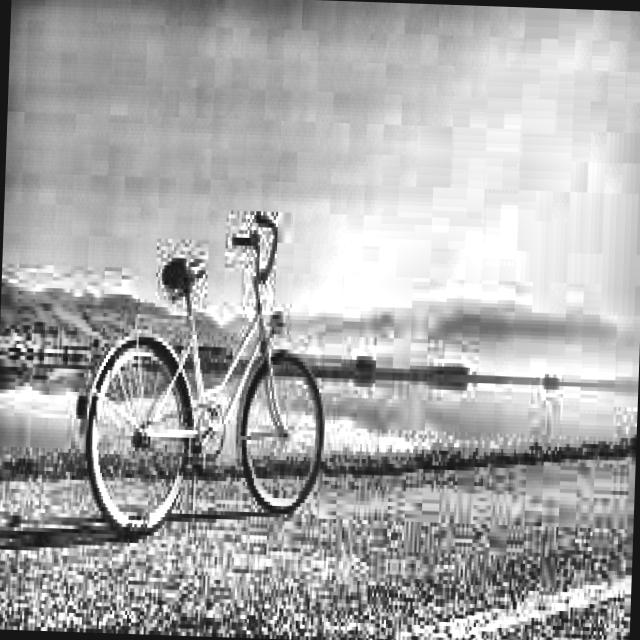bicycle: (72, 194, 340, 544)
